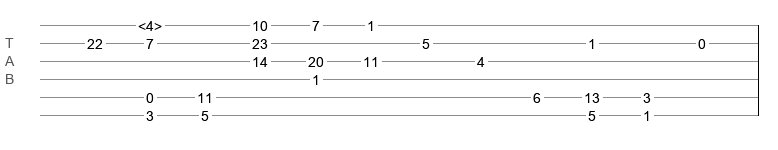0: (146, 90, 154, 100), (698, 36, 706, 46)
1: (312, 72, 320, 82), (367, 18, 375, 28), (588, 36, 596, 46), (643, 108, 651, 118)
10: (252, 18, 268, 28)
11: (197, 90, 213, 100), (363, 54, 379, 64)
13: (584, 90, 600, 100)
14: (252, 54, 268, 64)
20: (308, 54, 324, 64)
22: (87, 36, 103, 46)
23: (252, 36, 268, 46)
3: (146, 108, 154, 118), (643, 90, 651, 100)
4: (477, 54, 485, 64)
5: (201, 108, 209, 118), (422, 36, 430, 46), (588, 108, 596, 118)
6: (533, 90, 541, 100)
7: (146, 36, 154, 46), (312, 18, 320, 28)
harmonic: (138, 18, 162, 28)
